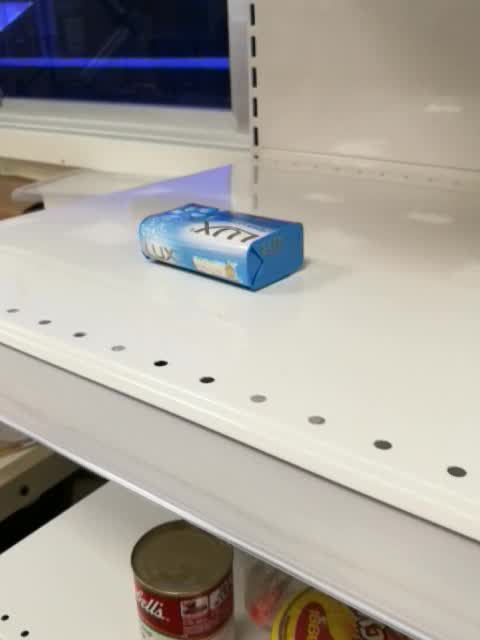soap: (138, 201, 305, 295)
